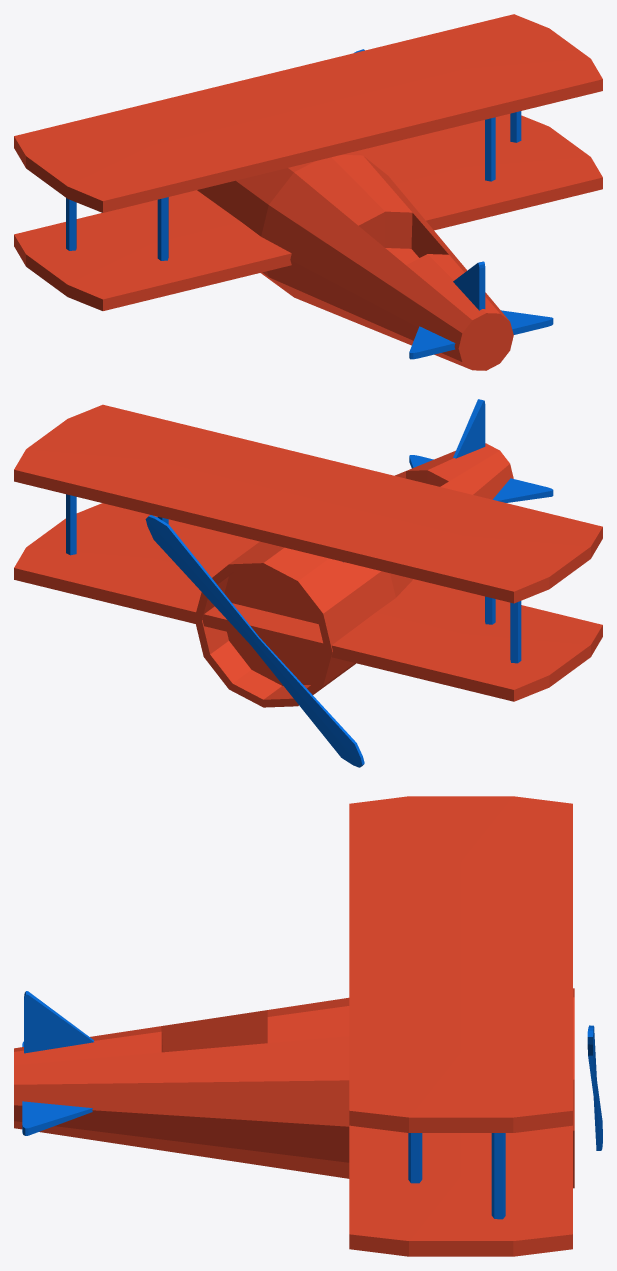
3 views of the same model, one above another, from view 1: azimuth 30°, elevation 25°; view 2: azimuth 150°, elevation 25°; view 3: azimuth 270°, elevation 25° (orthographic). The views are drawn at different scales.
Parts seen in each view (by area): view 1: Wing_U, Wing_D, Cylinder, Cylinder.009, Cylinder.010, Cylinder.007, Cylinder.008, Cylinder.005; view 2: Wing_U, Wing_D, Cylinder, elica, Cylinder.009, Cylinder.010, Cylinder.005, Cylinder.006; view 3: Wing_U, Cylinder, Wing_D, Cylinder.010, Cylinder.009, Cylinder.006, elica, Cylinder.008.
Part boxes in pixels (x1,y1,x2,y2): Wing_U: (14,14,602,212); Wing_D: (14,114,602,310); Cylinder: (197,151,513,370); Cylinder.009: (409,310,553,359); Cylinder.010: (453,261,485,310); Cylinder.007: (157,197,168,260); Cylinder.008: (485,117,495,181); Cylinder.005: (66,198,76,250); Wing_U: (14,404,602,603); Wing_D: (14,503,602,701); Cylinder: (194,443,513,707); elica: (145,515,364,767); Cylinder.009: (409,455,553,502); Cylinder.010: (453,399,485,458); Cylinder.005: (510,601,521,663); Cylinder.006: (66,494,76,555); Wing_U: (349,796,572,1132); Cylinder: (14,988,574,1188); Wing_D: (349,1125,572,1256); Cylinder.010: (24,991,93,1053); Cylinder.009: (22,1041,92,1135); Cylinder.006: (491,1133,505,1219); elica: (587,1025,602,1150); Cylinder.008: (408,1133,422,1183).
Bounding box in the file's own units: 7.58 × 2.81 × 5.87.
